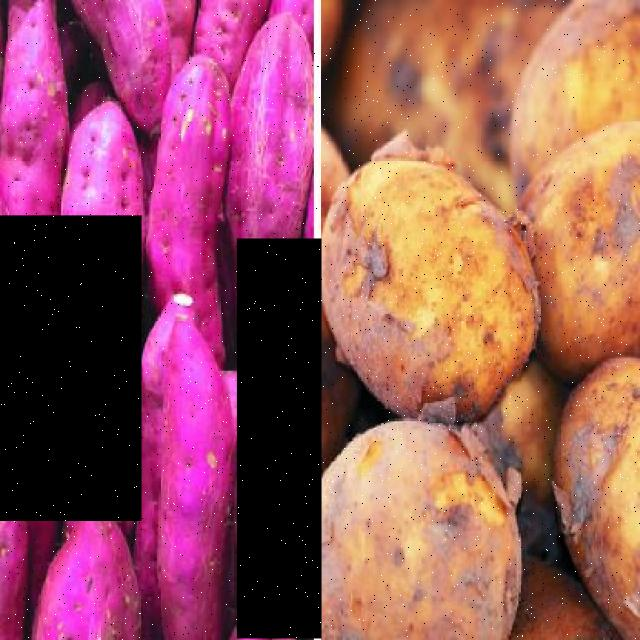Sweet_Potato: (0, 216, 142, 520), (237, 238, 321, 638)
